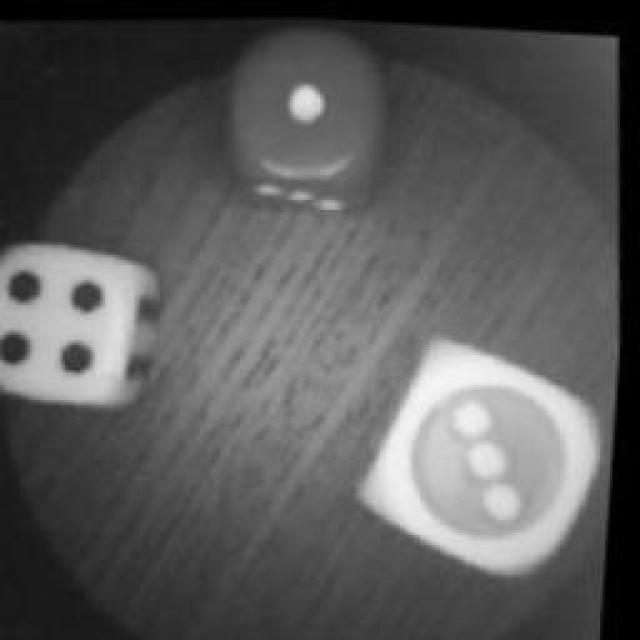dice_1: (201, 10, 404, 218)
dice_3: (349, 315, 621, 585)
dice_4: (0, 220, 170, 420)
